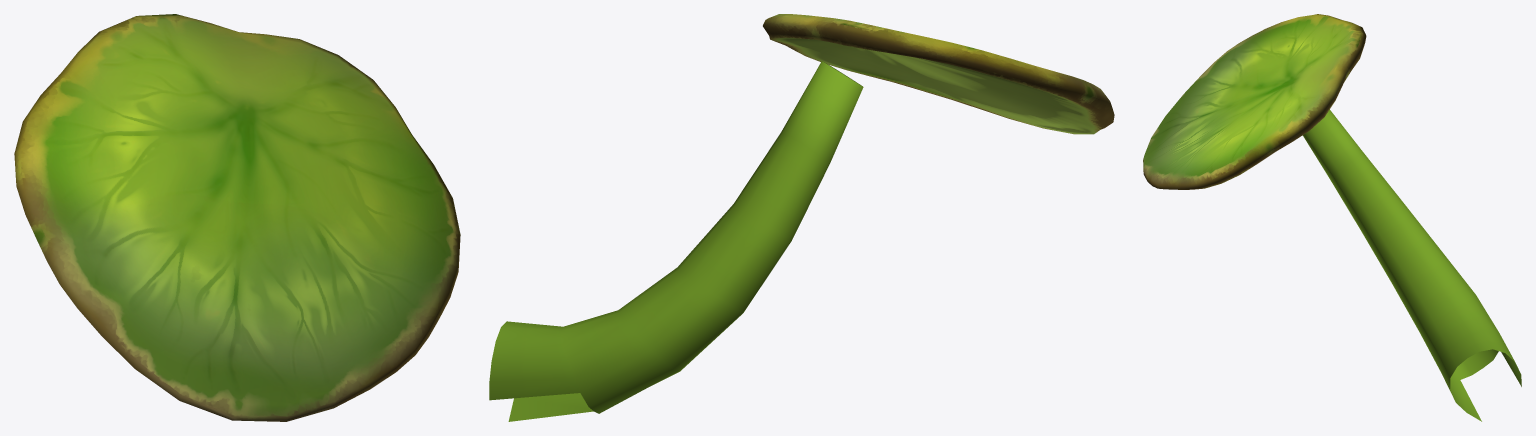
The model's file is LeafPlatform_mini_1.fbx.
3 renders of one model, left to right at view 1: azimuth 30°, elevation 25°; view 2: azimuth 150°, elevation 25°; view 3: azimuth 270°, elevation 25°, orthographic. The views are drawn at different scales.
Visible parts, largest first — view 1: Object007; view 2: Object007; view 3: Object007.
Boxes of the visible parts, x1=… form: Object007: x1=14, y1=14, x2=460, y2=421; Object007: x1=489, y1=14, x2=1114, y2=421; Object007: x1=1143, y1=14, x2=1521, y2=421.
Size of the model in its own units: 1.85 by 1.61 by 1.9.
